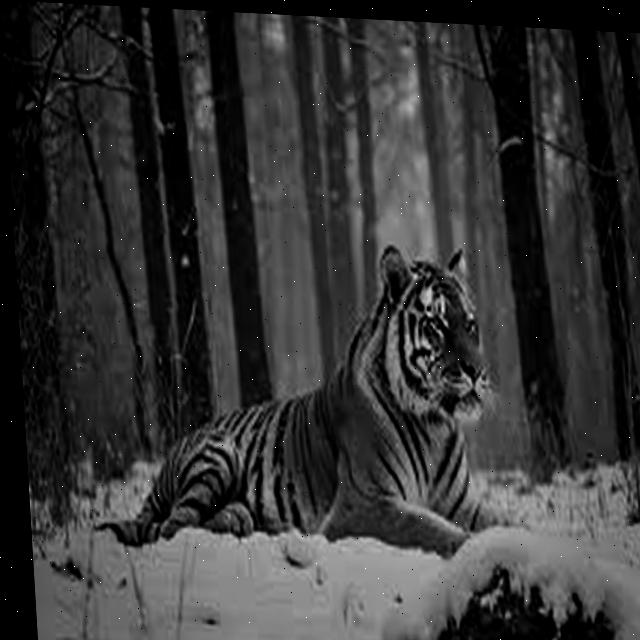Tiger: (76, 226, 515, 573)
